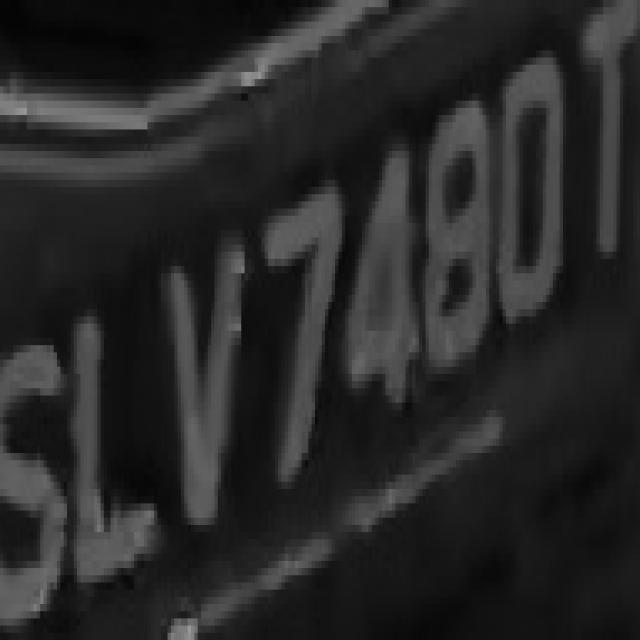0: (479, 43, 573, 331)
4: (332, 158, 426, 446)
7: (251, 166, 345, 497)
8: (418, 94, 502, 396)
L: (64, 288, 158, 596)
T: (573, 0, 640, 280)
V: (157, 216, 248, 525)
